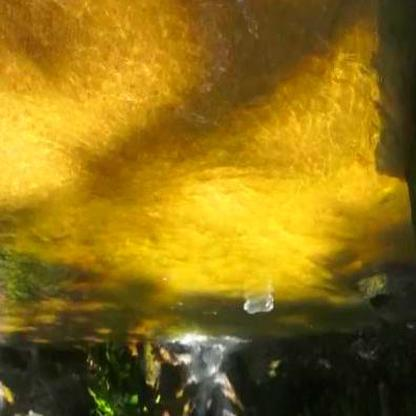plastic bottle: (239, 296, 274, 313)
